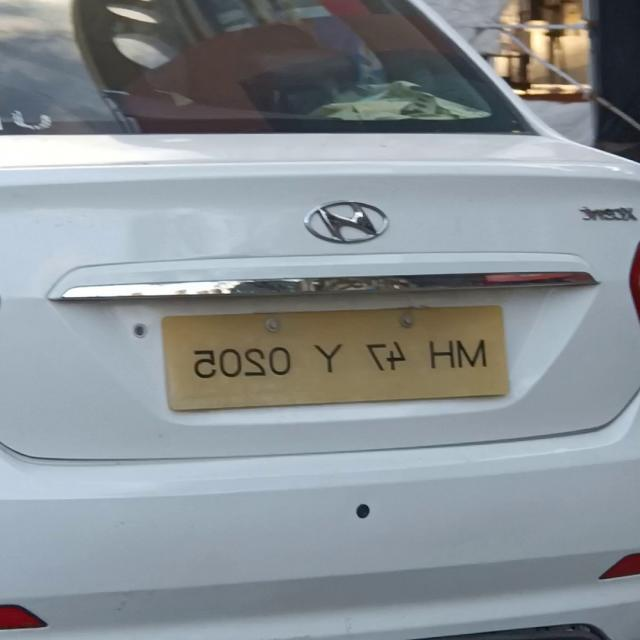license_plate: (153, 296, 516, 425)
